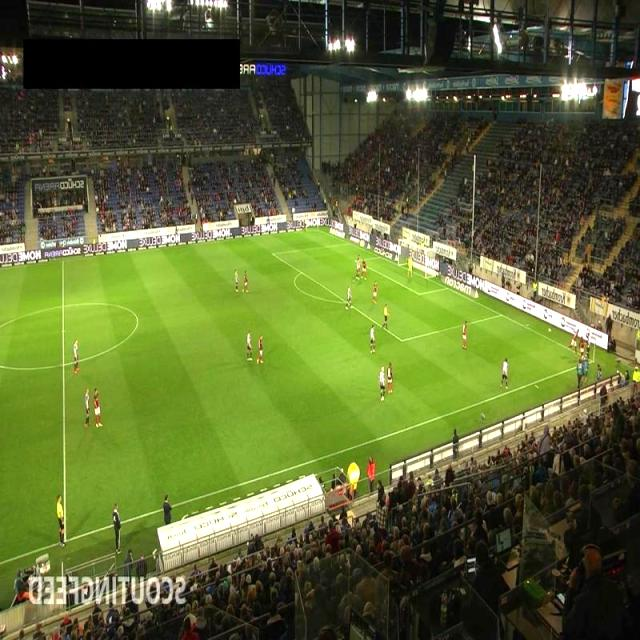bigarea_bottom_inner: (397, 336, 408, 346)
bigarea_bottom_outter: (496, 309, 506, 320)
bigarea_top_inner: (267, 248, 278, 259)
bigarea_top_outter: (344, 239, 354, 250)
bottom_arc_area_intersection: (342, 297, 352, 307)
corner: (312, 225, 324, 236)
halfcircle_bottom: (58, 358, 68, 368)
halfcircle_top: (57, 300, 68, 310)
midline_bottom_intersection: (59, 536, 70, 546)
midline_top_intersection: (57, 253, 68, 264)
smallarea_bottom_inner: (414, 288, 424, 298)
smallarea_bottom_outter: (442, 283, 453, 294)
smallarea_top_inner: (350, 253, 360, 264)
smallarea_top_outter: (376, 252, 386, 262)
top_arc_area_intersection: (295, 266, 306, 277)
